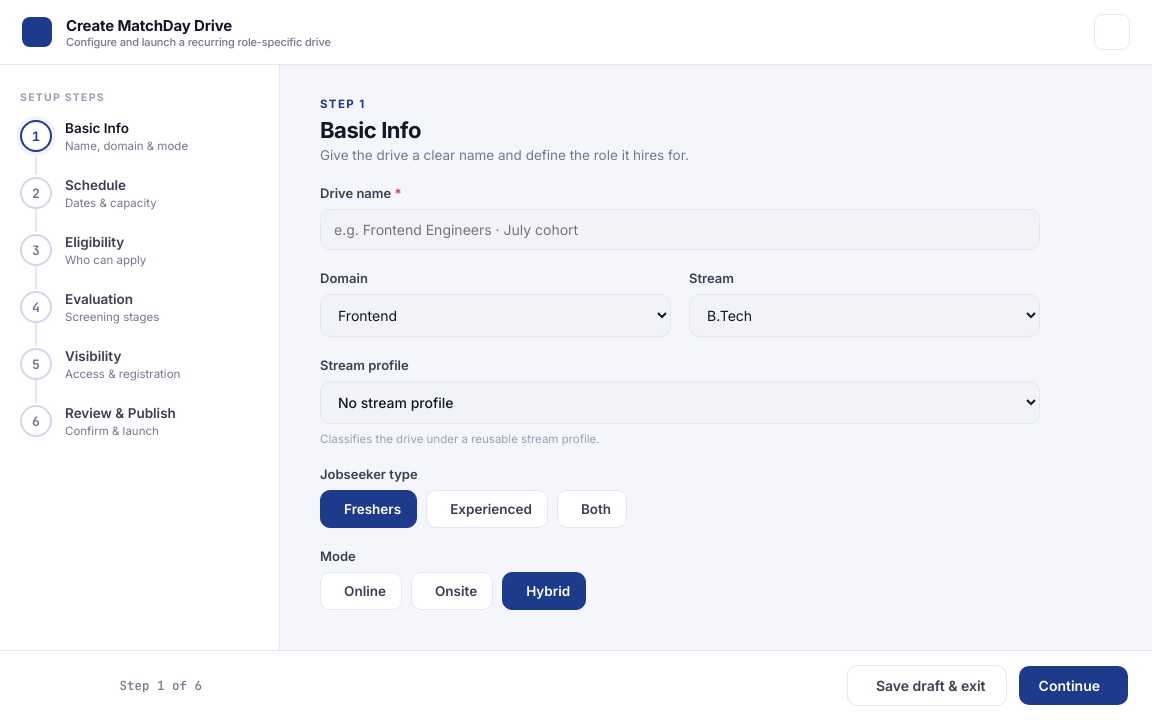
Test case: DriveWizard › blocks Continue on step 1 when the name is empty and shows the error
Click the button "Continue". click: x=1073, y=686
box: [1019,666,1128,705]
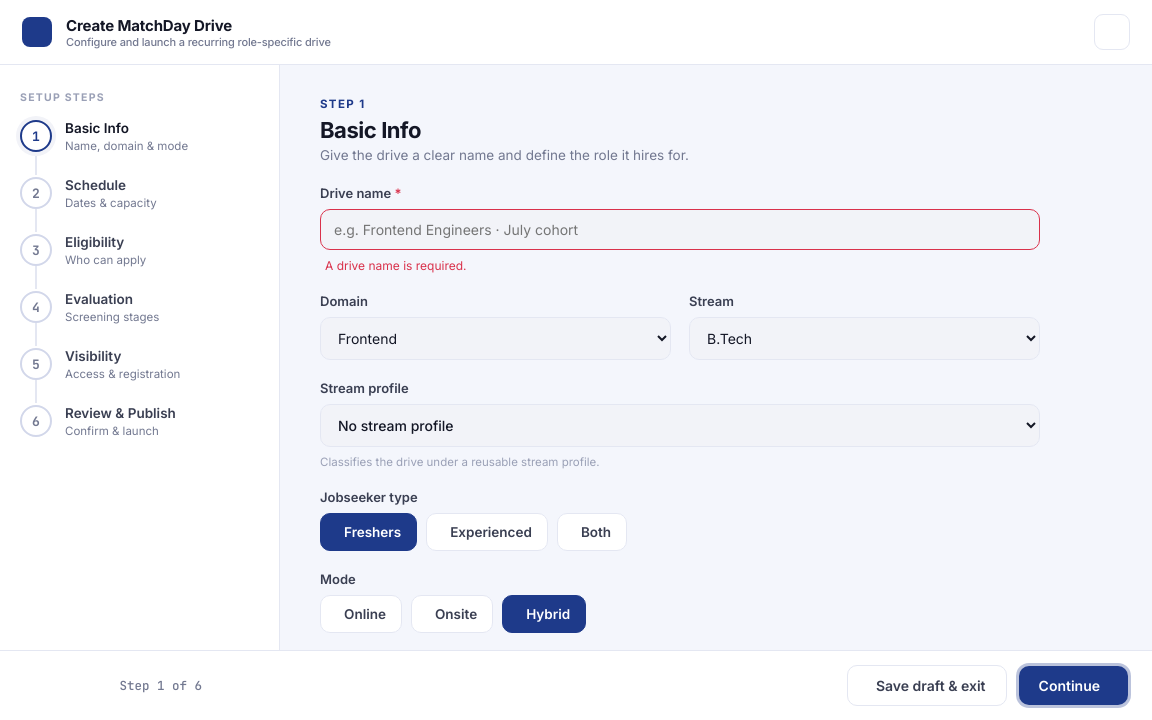
Expected: the heading "Basic Info" is shown, [320,117,421,143]
Expected: the text "A drive name is required." is shown, [325,258,466,273]
